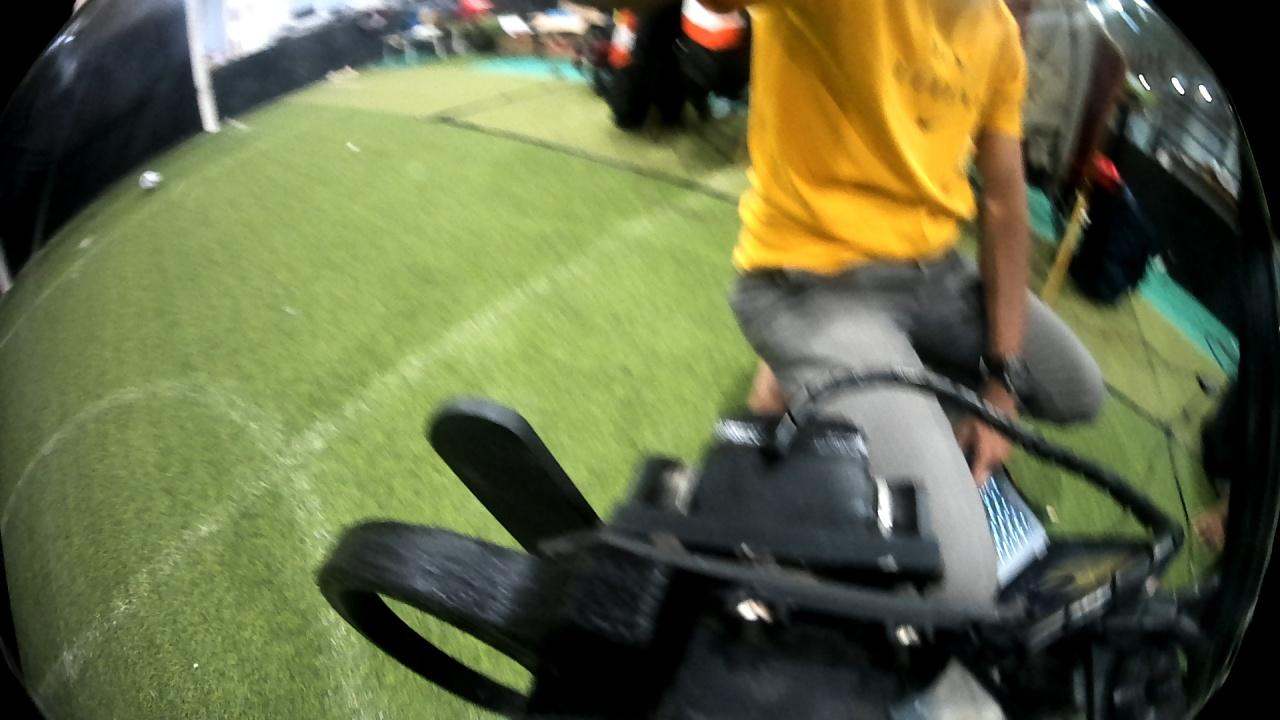ball: (134, 167, 164, 196)
